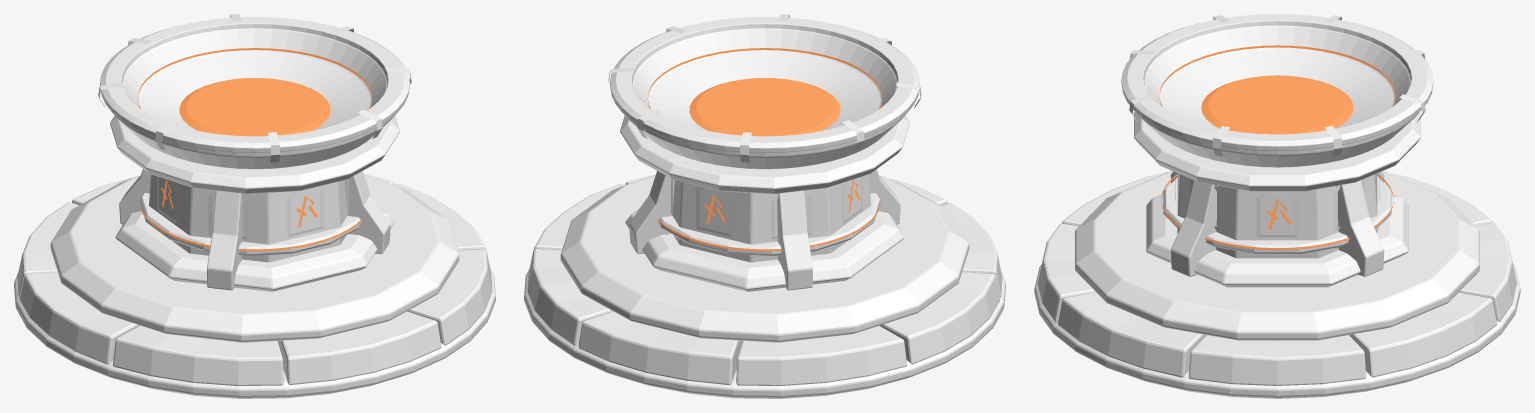
File: cloud-source.glb
3 views of the same model, side by side, from view 1: azimuth 30°, elevation 25°; view 2: azimuth 150°, elevation 25°; view 3: azimuth 270°, elevation 25° (orthographic).
Parts seen in each view (by area): view 1: Inset octagonal upper step, Hollow offering bowl, Forged upper offering rim, Carved eight-face altar drum, Carved capital and drip edge, Octagonal altar foot, Worn radial footing stone 05, Ember bed inset, Worn radial footing stone 06, Ground contact foundation, Worn radial footing stone 04, Worn radial footing stone 07 (+10 smaller); view 2: Inset octagonal upper step, Hollow offering bowl, Forged upper offering rim, Carved eight-face altar drum, Carved capital and drip edge, Octagonal altar foot, Worn radial footing stone 03, Ember bed inset, Worn radial footing stone 02, Ground contact foundation, Worn radial footing stone 04, Worn radial footing stone 01 (+10 smaller); view 3: Inset octagonal upper step, Hollow offering bowl, Forged upper offering rim, Worn radial footing stone 00, Octagonal altar foot, Carved capital and drip edge, Ember bed inset, Carved eight-face altar drum, Ground contact foundation, Worn radial footing stone 07, Worn radial footing stone 01, Worn radial footing stone 02 (+9 smaller).
Part boxes in pixels (x1,y1,x2,y2): Inset octagonal upper step: [50, 175, 459, 342]; Hollow offering bowl: [114, 28, 395, 169]; Forged upper offering rim: [100, 17, 409, 152]; Carved eight-face altar drum: [149, 174, 347, 262]; Carved capital and drip edge: [110, 115, 399, 193]; Octagonal altar foot: [115, 208, 394, 291]; Worn radial footing stone 05: [113, 325, 283, 385]; Ember bed inset: [179, 78, 330, 136]; Worn radial footing stone 06: [277, 311, 441, 384]; Ground contact foundation: [14, 269, 495, 398]; Worn radial footing stone 04: [20, 272, 139, 364]; Worn radial footing stone 07: [407, 249, 492, 345]; Inset octagonal upper step: [560, 175, 969, 342]; Hollow offering bowl: [624, 28, 905, 169]; Forged upper offering rim: [610, 17, 919, 152]; Carved eight-face altar drum: [672, 174, 870, 262]; Carved capital and drip edge: [620, 115, 909, 193]; Octagonal altar foot: [625, 208, 904, 291]; Worn radial footing stone 03: [736, 326, 906, 385]; Ember bed inset: [689, 78, 840, 136]; Worn radial footing stone 02: [578, 311, 741, 384]; Ground contact foundation: [524, 269, 1005, 398]; Worn radial footing stone 04: [879, 272, 999, 364]; Worn radial footing stone 01: [527, 249, 612, 345]; Inset octagonal upper step: [1075, 170, 1479, 340]; Hollow offering bowl: [1135, 25, 1419, 167]; Forged upper offering rim: [1121, 14, 1433, 150]; Worn radial footing stone 00: [1188, 335, 1366, 385]; Octagonal altar foot: [1146, 194, 1408, 287]; Carved capital and drip edge: [1134, 112, 1420, 191]; Ember bed inset: [1201, 75, 1353, 134]; Carved eight-face altar drum: [1177, 173, 1377, 258]; Ground contact foundation: [1034, 264, 1520, 398]; Worn radial footing stone 07: [1058, 292, 1205, 377]; Worn radial footing stone 01: [1349, 292, 1496, 377]; Worn radial footing stone 02: [1459, 222, 1517, 321].
Bounding box in the file's own units: 3.44 × 1.78 × 3.44.
